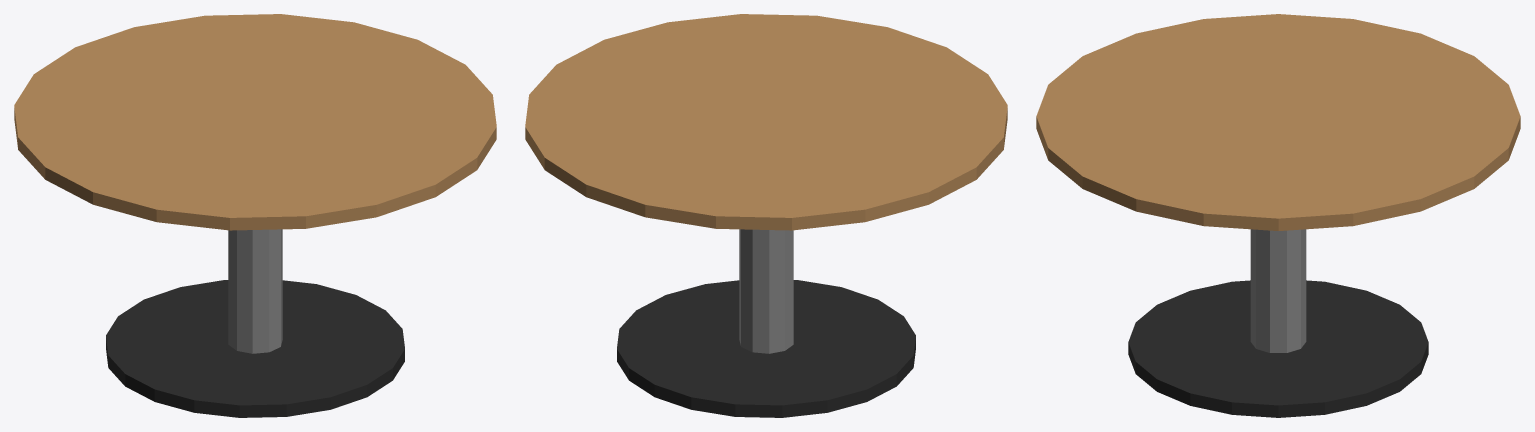
The picture shows the model from 3 angles, left to right: view 1: azimuth 30°, elevation 25°; view 2: azimuth 150°, elevation 25°; view 3: azimuth 270°, elevation 25°; orthographic projection.
Parts seen in each view (by area): view 1: mesa_meet; view 2: mesa_meet; view 3: mesa_meet.
Part boxes in pixels (x1=…): mesa_meet: x1=14, y1=14, x2=496, y2=417; mesa_meet: x1=525, y1=14, x2=1007, y2=417; mesa_meet: x1=1036, y1=14, x2=1520, y2=417.
Size of the model in its own units: 1.4 by 1.4 by 0.76.
